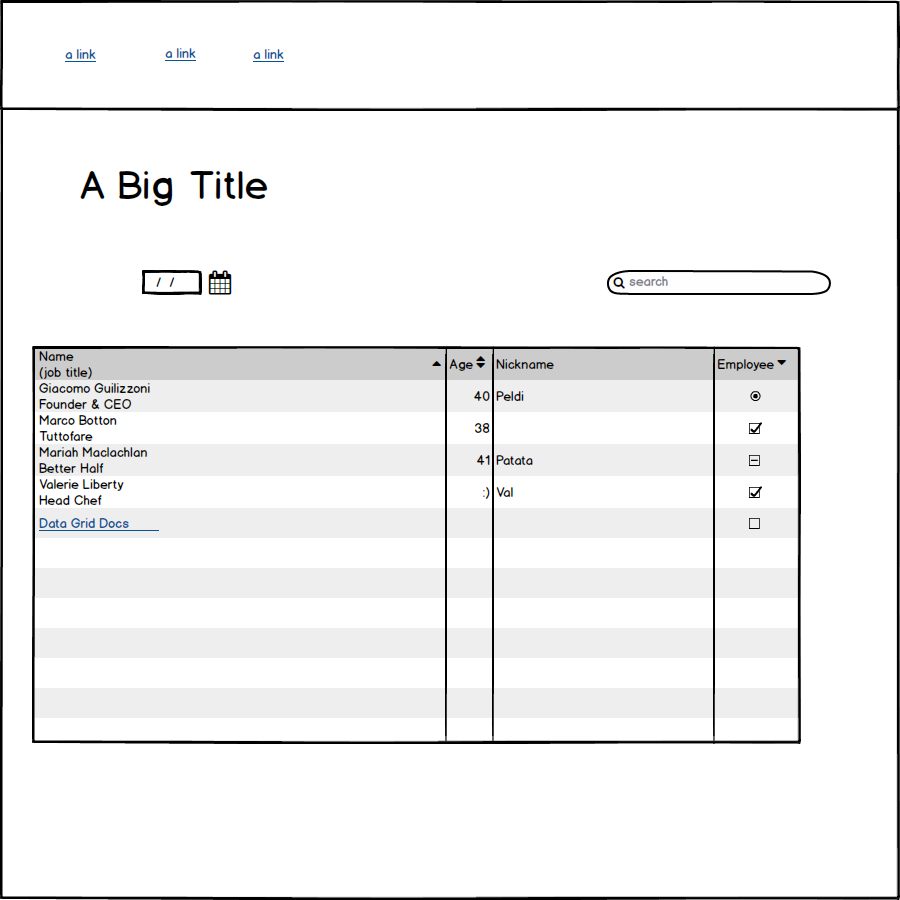date_picker: (135, 263, 268, 301)
h1: (75, 160, 274, 214)
navlink: (248, 37, 294, 78), (159, 38, 207, 70), (61, 40, 104, 69)
search: (600, 262, 835, 303)
table: (27, 338, 812, 749)
